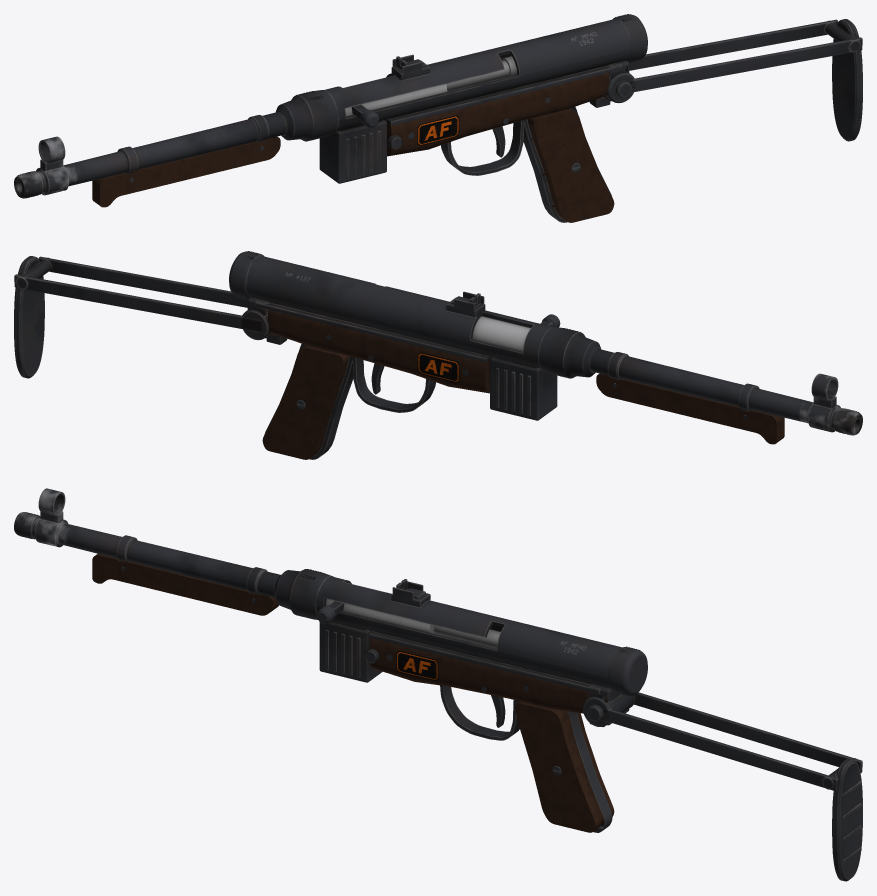
File: afmp40_lod1.fbx
3 views of the same model, one above another, from view 1: azimuth 30°, elevation 25°; view 2: azimuth 150°, elevation 25°; view 3: azimuth 330°, elevation 25° (orthographic).
Parts seen in each view (by area): view 1: MP40_LOD_1; view 2: MP40_LOD_1; view 3: MP40_LOD_1.
Part boxes in pixels (box(x1,y1,x2,y2)): MP40_LOD_1: box(14, 14, 862, 222); MP40_LOD_1: box(14, 251, 862, 459); MP40_LOD_1: box(14, 488, 862, 881).
Bounding box in the file's own units: 79.36 × 6.5 × 18.69.
